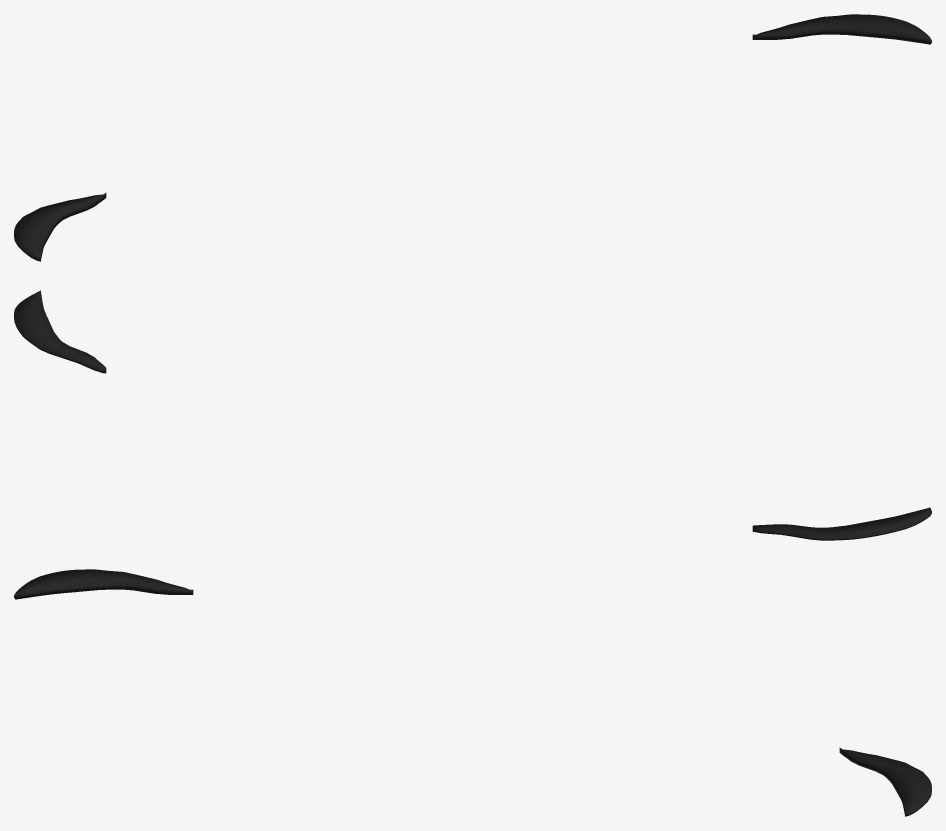
File: DT50_rear_canards.glb
3 renders of one model, top to bottom at view 1: azimuth 30°, elevation 25°; view 2: azimuth 150°, elevation 25°; view 3: azimuth 330°, elevation 25°, orthographic.
Visible parts, largest first — view 1: MOD_ND_DT50_canard_L, MOD_ND_DT50_canard_R; view 2: MOD_ND_DT50_canard_R, MOD_ND_DT50_canard_L; view 3: MOD_ND_DT50_canard_R, MOD_ND_DT50_canard_L.
Boxes of the visible parts, x1,y1,x2,y2 form: MOD_ND_DT50_canard_L: [752, 14, 931, 44]; MOD_ND_DT50_canard_R: [14, 192, 106, 261]; MOD_ND_DT50_canard_R: [752, 507, 931, 540]; MOD_ND_DT50_canard_L: [14, 290, 106, 373]; MOD_ND_DT50_canard_R: [14, 569, 193, 599]; MOD_ND_DT50_canard_L: [839, 747, 931, 816].
Bounding box in the file's own units: 1.38 × 0.018 × 0.1541.
Materials: 1 (1 with a texture image).
